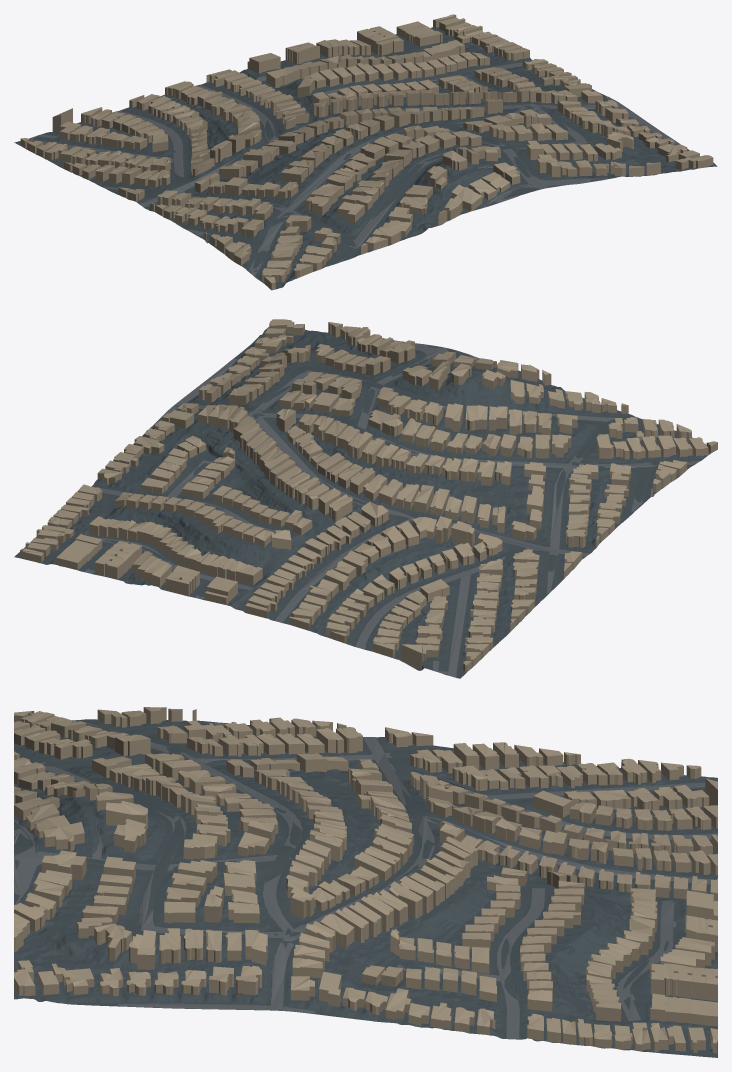
The model's file is epsg26910-1425-10874.lod0.glb.
The picture shows the model from 3 angles, top to bottom: view 1: azimuth 30°, elevation 25°; view 2: azimuth 150°, elevation 25°; view 3: azimuth 270°, elevation 25°; orthographic projection. The views are drawn at different scales.
Parts seen in each view (by area): view 1: epsg26910-1425-10874-lod0; view 2: epsg26910-1425-10874-lod0; view 3: epsg26910-1425-10874-lod0.
Part boxes in pixels (box(x1,y1,x2,y2)): epsg26910-1425-10874-lod0: box(14, 14, 717, 290); epsg26910-1425-10874-lod0: box(14, 319, 717, 678); epsg26910-1425-10874-lod0: box(14, 707, 717, 1057).
Size of the model in its own units: 384 by 80.74 by 384.
